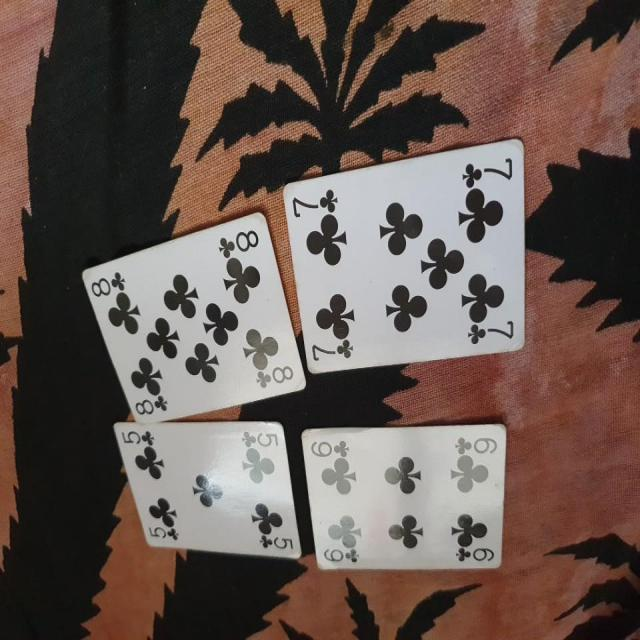5 Trefoils: (112, 418, 304, 562)
6 Trefoils: (300, 421, 509, 570)
7 Trefoils: (282, 135, 528, 376)
8 Trefoils: (81, 212, 308, 420)
